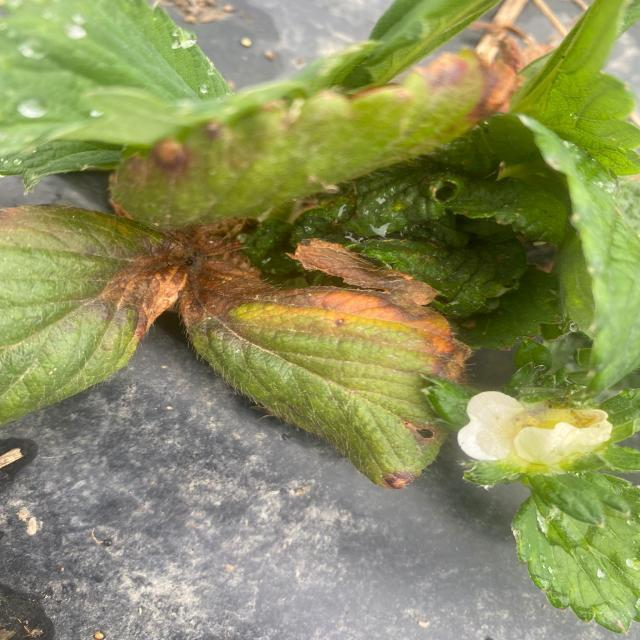flower: (442, 384, 631, 477)
